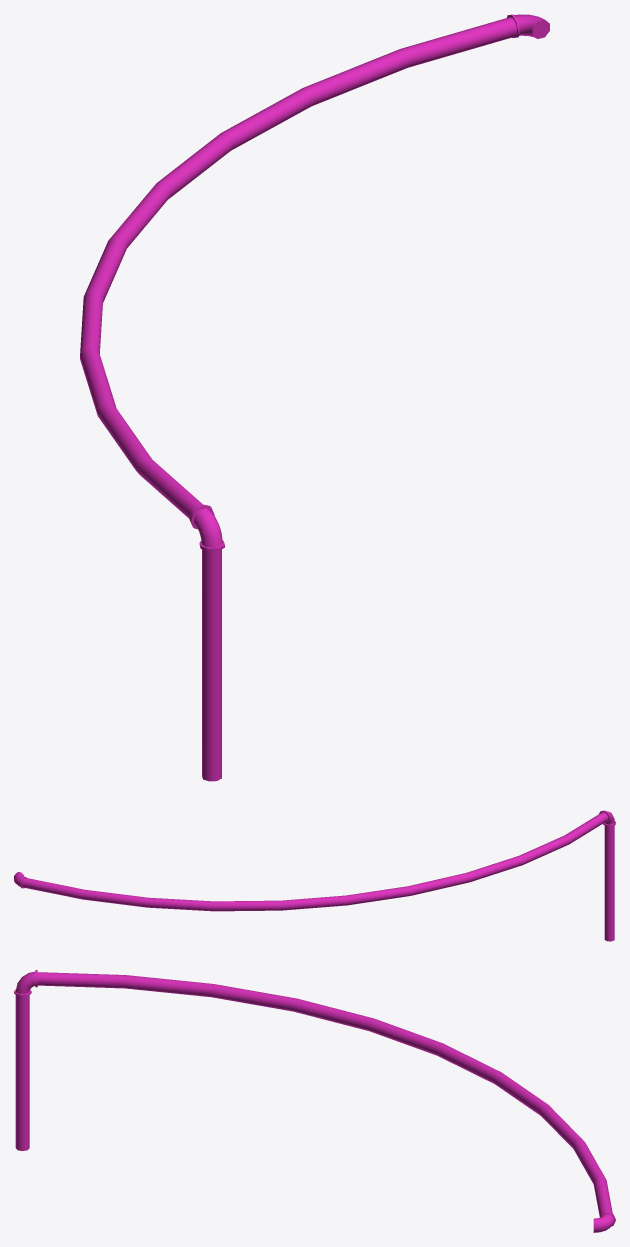
Rendered from Tank_Pipe_02B_Lod1.fbx.
The picture shows the model from 3 angles, top to bottom: view 1: azimuth 30°, elevation 25°; view 2: azimuth 150°, elevation 25°; view 3: azimuth 270°, elevation 25°; orthographic projection. The views are drawn at different scales.
Parts seen in each view (by area): view 1: Tank_Pipe_02B_Lod1; view 2: Tank_Pipe_02B_Lod1; view 3: Tank_Pipe_02B_Lod1.
Boxes of the visible parts, <box> form: Tank_Pipe_02B_Lod1: <box>80,14,549,781</box>; Tank_Pipe_02B_Lod1: <box>14,810,615,941</box>; Tank_Pipe_02B_Lod1: <box>14,970,615,1232</box>.
Size of the model in its own units: 4034 by 1318 by 4042.
